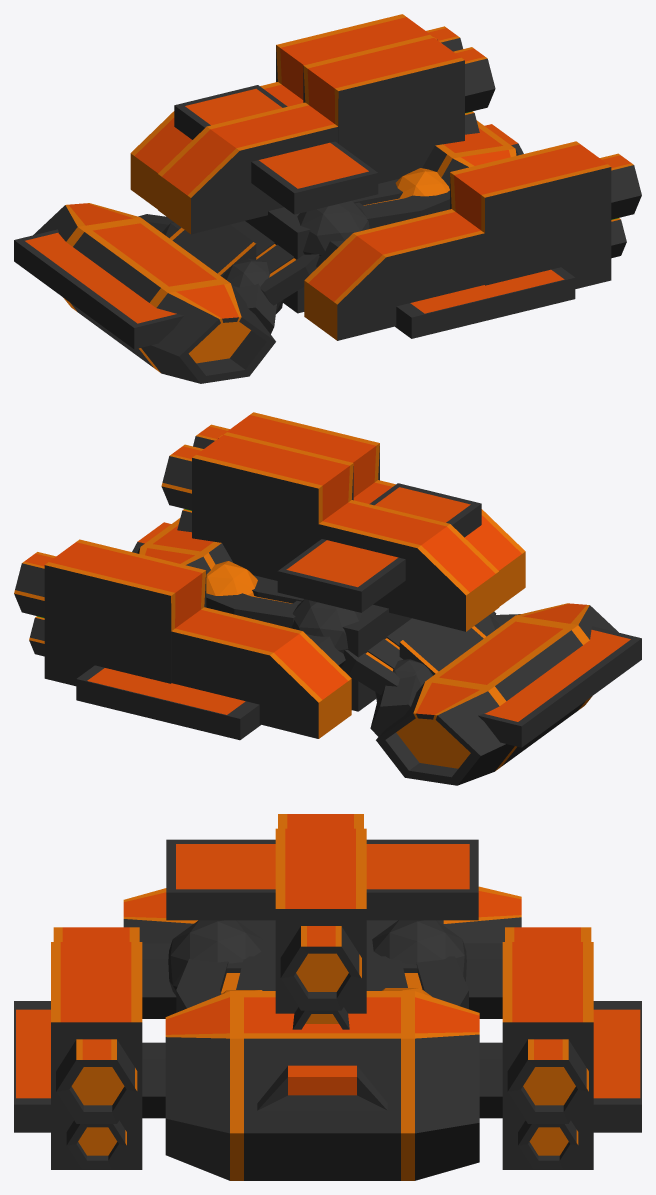
The model's file is mob5.fbx.
3 views of the same model, one above another, from view 1: azimuth 30°, elevation 25°; view 2: azimuth 150°, elevation 25°; view 3: azimuth 270°, elevation 25° (orthographic). The views are drawn at different scales.
Visible parts, largest first — view 1: Cube.003, Cube.008, Cylinder.011, Cube.009, Cube.010, Cube.007, Cube.012, Cylinder, Cube.005, Cube.001, Cube.002, Icosphere.001 (+6 smaller); view 2: Cube.007, Cube.008, Cylinder.011, Cube.009, Cube.010, Cube.003, Cube.011, Cube.001, Cube.002, Cylinder, Cube.006, Cube.004 (+6 smaller); view 3: Cylinder, Cube.009, Cube.003, Cube.007, Cube.008, Cube.002, Cube.011, Cylinder.008, Cylinder.002, Cylinder.013, Cylinder.011, Cube.012 (+11 smaller).
Boxes of the visible parts, left/top/right/bottom form: Cube.003: left=304, top=141, right=611, bottom=340; Cube.008: left=158, top=34, right=464, bottom=234; Cylinder.011: left=33, top=203, right=275, bottom=383; Cube.009: left=174, top=85, right=378, bottom=214; Cube.010: left=14, top=229, right=183, bottom=349; Cube.007: left=130, top=14, right=437, bottom=209; Cube.012: left=395, top=267, right=575, bottom=338; Cylinder: left=422, top=120, right=518, bottom=188; Cube.005: left=238, top=222, right=319, bottom=305; Cube.001: left=169, top=224, right=256, bottom=276; Cube.002: left=352, top=179, right=449, bottom=228; Icosphere.001: left=297, top=200, right=370, bottom=255; Cube.007: left=44, top=539, right=351, bottom=738; Cube.008: left=192, top=432, right=499, bottom=631; Cylinder.011: left=376, top=603, right=618, bottom=785; Cube.009: left=277, top=483, right=481, bottom=612; Cube.010: left=478, top=626, right=641, bottom=747; Cube.003: left=218, top=412, right=525, bottom=606; Cube.011: left=76, top=665, right=260, bottom=740; Cube.001: left=399, top=622, right=486, bottom=675; Cube.002: left=206, top=575, right=304, bottom=628; Cylinder: left=137, top=518, right=233, bottom=574; Cube.006: left=293, top=601, right=411, bottom=711; Cube.004: left=341, top=618, right=425, bottom=694; Cylinder: left=165, top=991, right=479, bottom=1180; Cube.009: left=166, top=839, right=478, bottom=920; Cube.003: left=51, top=927, right=142, bottom=1169; Cube.007: left=502, top=927, right=593, bottom=1169; Cube.008: left=275, top=814, right=366, bottom=1013; Cube.002: left=176, top=956, right=468, bottom=1012; Cube.011: left=593, top=1001, right=641, bottom=1132; Cylinder.008: left=56, top=1039, right=137, bottom=1123; Cylinder.002: left=507, top=1039, right=588, bottom=1123; Cylinder.013: left=280, top=926, right=361, bottom=1010; Cylinder.011: left=123, top=886, right=521, bottom=943; Cube.012: left=14, top=1001, right=50, bottom=1132.
Size of the model in its own units: 736 by 330 by 662.
